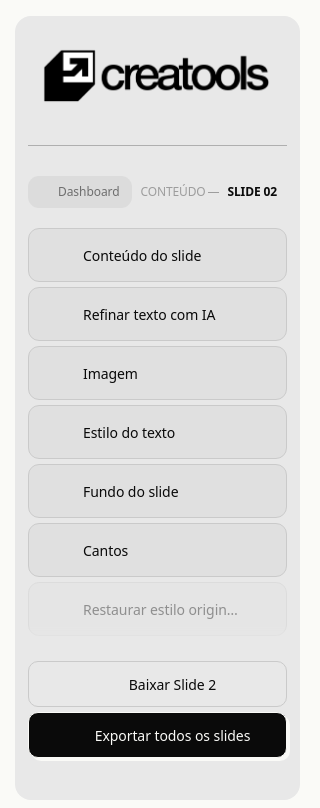
TEMPLATE 2 — estilo e restauração › o seletor de tamanho abre no número do spec, não num padrão do editor
The width and height of the screenshot is (320, 808).
Click the button "Estilo do texto". click: (158, 432)
box: top-left (29, 406), bottom-right (286, 458)
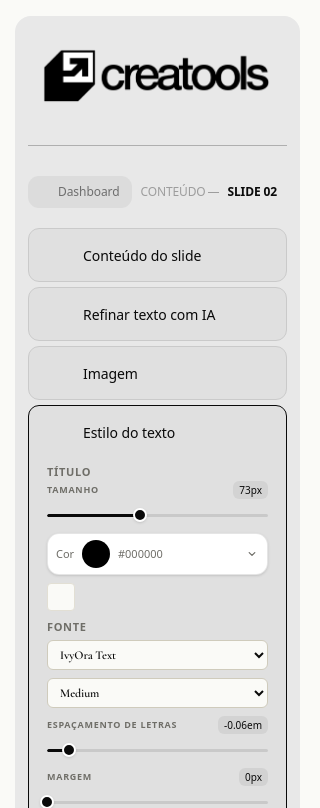
Check: the element showing "73" is shown, box top-left (47, 481), bottom-right (268, 525)
